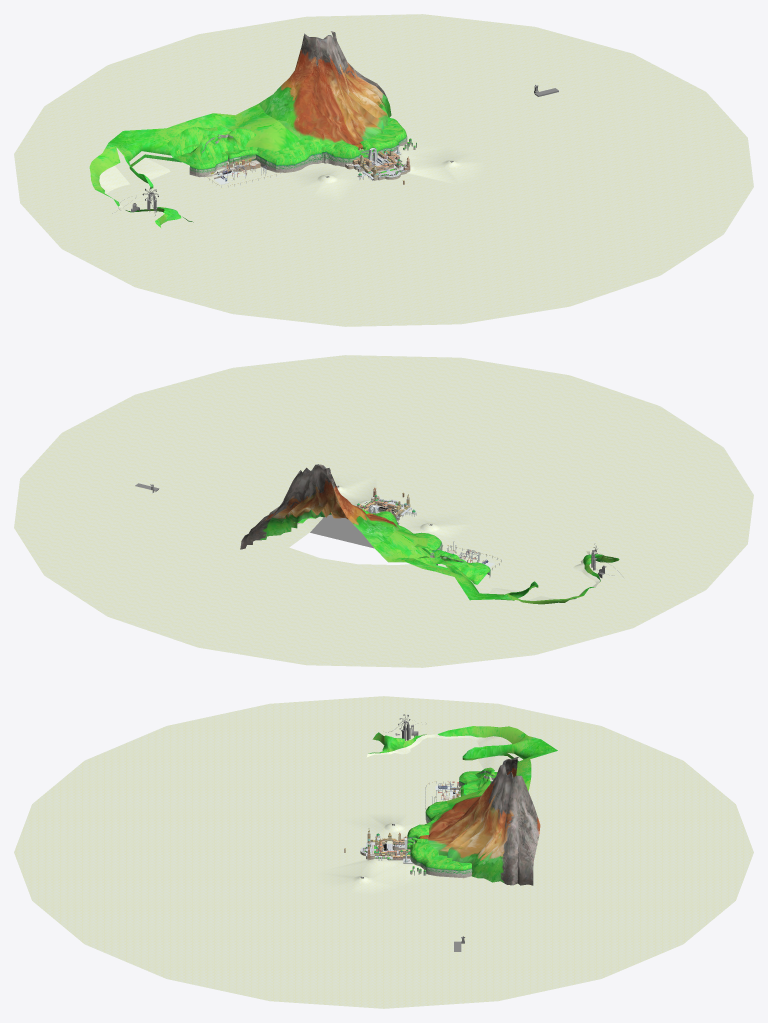
File: dolpic0.dae
The picture shows the model from 3 angles, top to bottom: view 1: azimuth 30°, elevation 25°; view 2: azimuth 150°, elevation 25°; view 3: azimuth 270°, elevation 25°; orthographic projection.
Parts seen in each view (by area): view 1: n14b10, n36b11, n18b12, n32b22; view 2: n14b10, n18b12, n36b11, n39b19; view 3: n14b10, n18b12, n36b11.
Part boxes in pixels (x1,y1,x2,y2): n14b10: (14, 14, 753, 326); n36b11: (89, 104, 416, 227); n18b12: (259, 31, 391, 148); n32b22: (204, 134, 280, 187); n14b10: (14, 355, 753, 667); n18b12: (240, 464, 399, 549); n36b11: (292, 508, 619, 604); n39b19: (135, 483, 623, 577); n14b10: (14, 696, 753, 1008); n18b12: (428, 757, 540, 885); n36b11: (368, 726, 557, 878).
Bounding box in the file's own units: 251934 × 34308 × 251934.
Materials: 29 (28 with a texture image).
